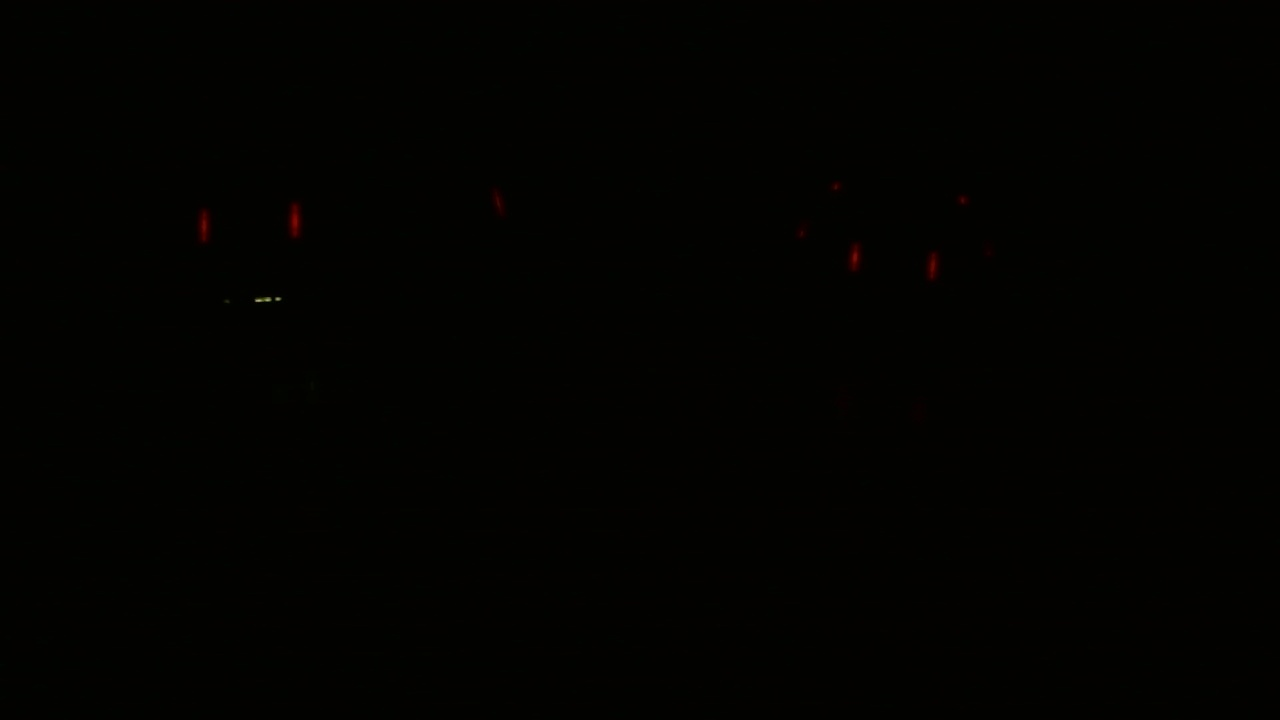pair1: (190, 189, 312, 255)
pair2: (833, 237, 958, 291)
